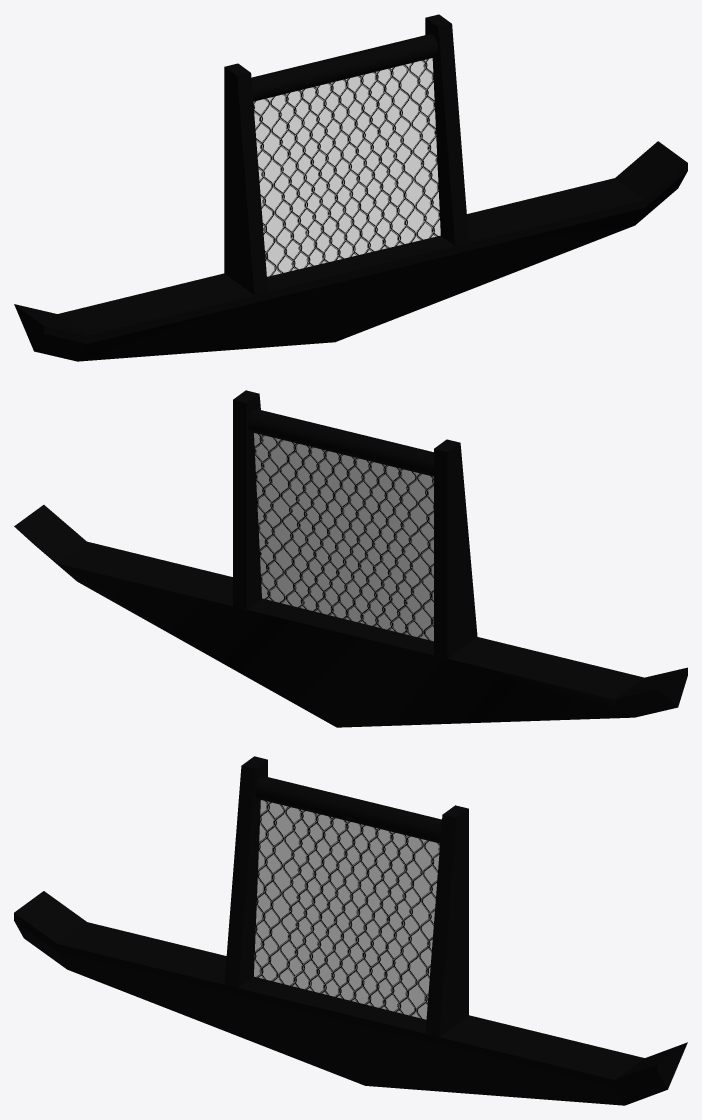
The picture shows the model from 3 angles, top to bottom: view 1: azimuth 30°, elevation 25°; view 2: azimuth 150°, elevation 25°; view 3: azimuth 330°, elevation 25°; orthographic projection.
Visible parts, largest first — view 1: pCylinder5; view 2: pCylinder5; view 3: pCylinder5.
Boxes of the visible parts, x1=… form: pCylinder5: x1=14, y1=14, x2=687, y2=361; pCylinder5: x1=14, y1=390, x2=687, y2=727; pCylinder5: x1=14, y1=756, x2=687, y2=1105.
Size of the model in its own units: 0.0801 by 0.0359 by 0.00643.
